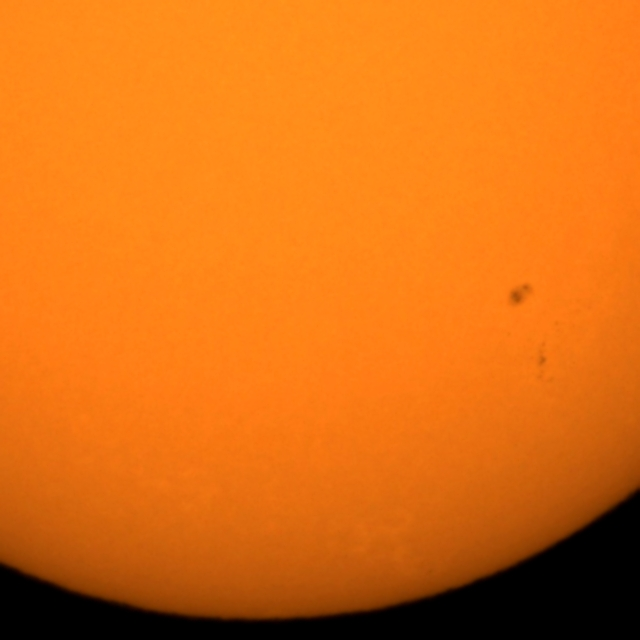sunspot: (505, 280, 537, 310), (534, 352, 556, 387), (534, 342, 550, 371)
